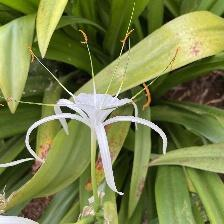spider lily: (1, 1, 181, 207)
